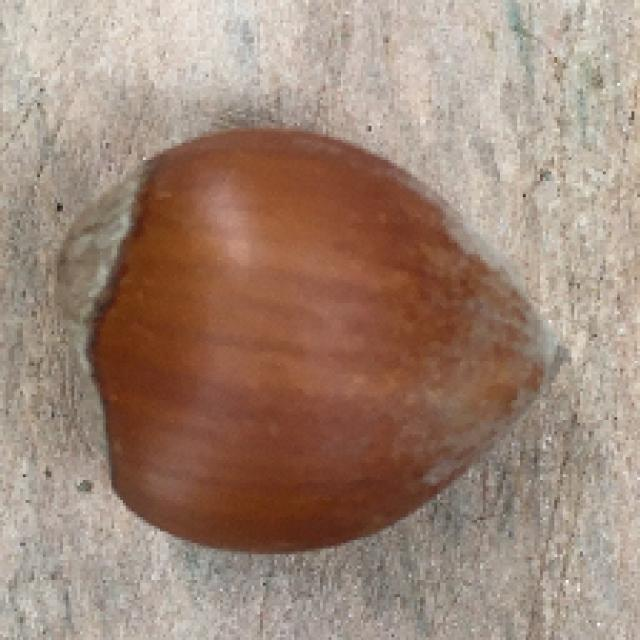qualityHazelnut: (49, 128, 572, 558)
